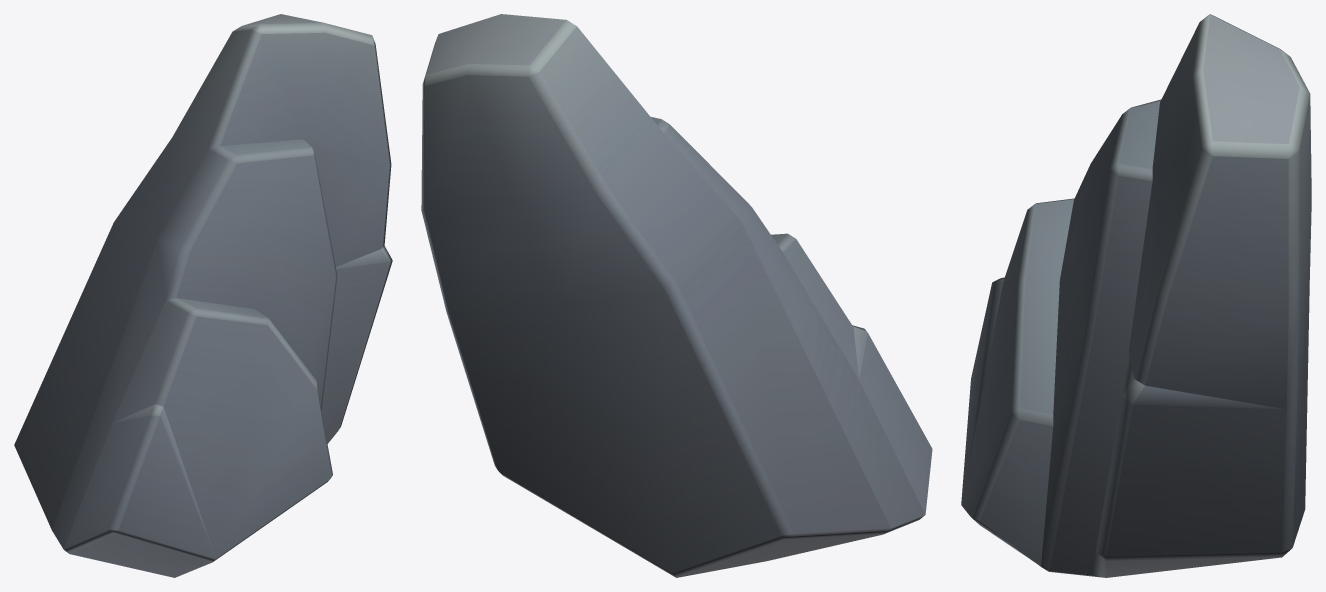
File: rock_028.fbx
3 renders of one model, left to right at view 1: azimuth 30°, elevation 25°; view 2: azimuth 150°, elevation 25°; view 3: azimuth 270°, elevation 25°, orthographic. The views are drawn at different scales.
Parts seen in each view (by area): view 1: rock_028; view 2: rock_028; view 3: rock_028.
Boxes of the visible parts, x1,y1,x2,y2 form: rock_028: [14, 14, 392, 577]; rock_028: [421, 14, 932, 577]; rock_028: [961, 14, 1311, 577].
Size of the model in its own units: 612 by 743 by 373.
